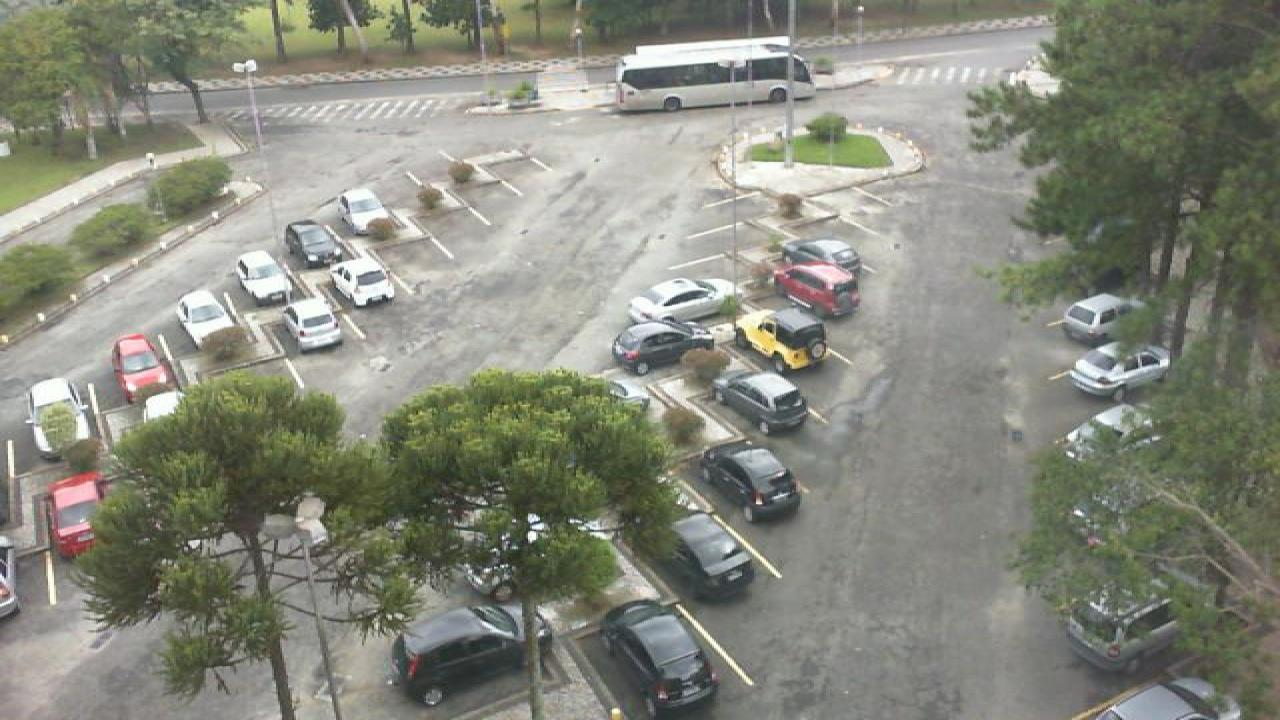Car: (594, 598, 726, 720), (388, 605, 540, 709), (1062, 569, 1188, 674), (658, 512, 758, 605), (692, 443, 802, 522), (1068, 677, 1222, 720), (730, 308, 830, 372), (710, 368, 808, 432), (610, 320, 726, 374), (1066, 342, 1174, 399), (626, 276, 736, 328), (44, 470, 110, 554), (770, 261, 860, 319), (26, 377, 84, 459), (108, 332, 178, 399), (1060, 292, 1136, 348), (172, 287, 238, 350), (328, 254, 396, 307), (778, 237, 866, 277), (282, 299, 346, 352), (232, 249, 292, 305), (282, 218, 346, 269), (336, 187, 400, 237), (602, 374, 662, 410), (140, 388, 190, 424)
